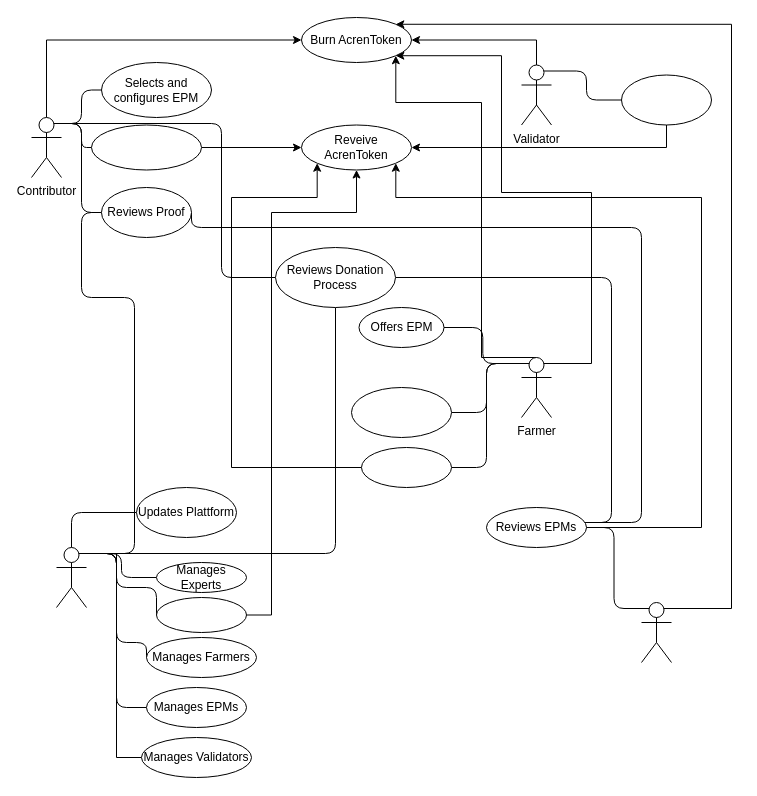
Image size: 757x796. Some labels were removed from this diagram. Each missing label, with the centre of its shape:
Administrator: point (71, 577)
Channels funds: point (201, 614)
Creates Proof: point (406, 467)
Experts: point (656, 632)
Implements EPM: point (401, 412)
Sends Donation: point (146, 147)
Validates Proof: point (666, 99)
